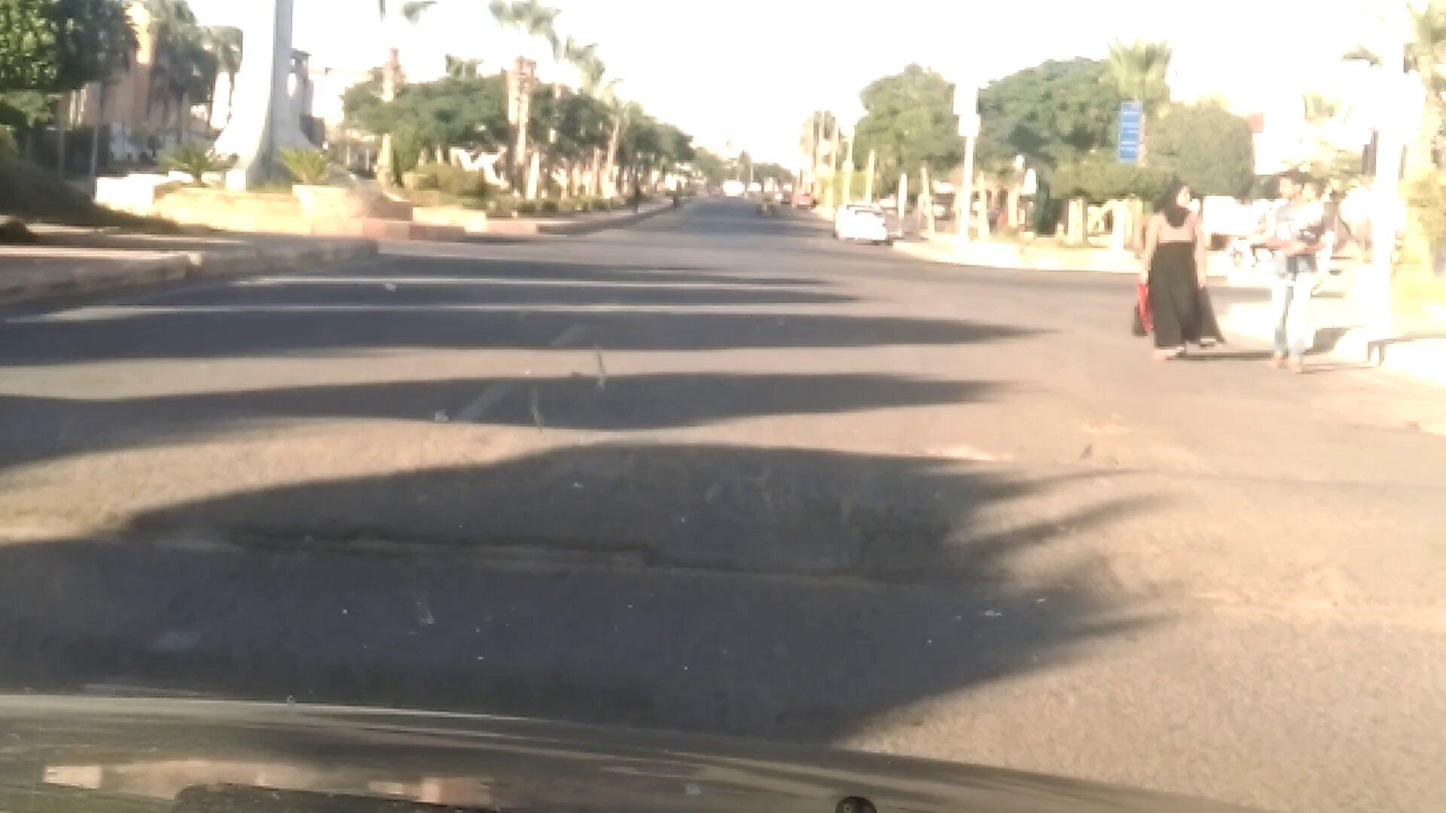Pothole: (113, 502, 689, 589)
